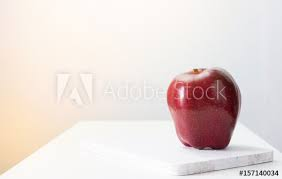apple: (166, 69, 239, 153)
